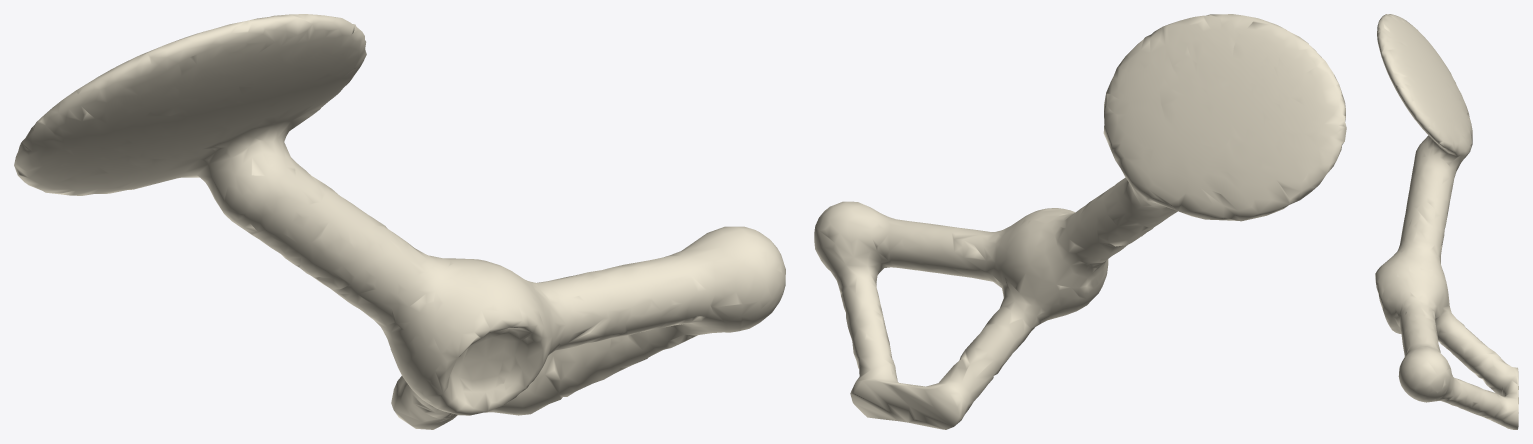
Rendered from hip_l.glb.
3 views of the same model, side by side, from view 1: azimuth 30°, elevation 25°; view 2: azimuth 150°, elevation 25°; view 3: azimuth 270°, elevation 25° (orthographic). The views are drawn at different scales.
Parts seen in each view (by area): view 1: geometry_0; view 2: geometry_0; view 3: geometry_0.
Part boxes in pixels (x1=…): geometry_0: x1=14, y1=14, x2=785, y2=429; geometry_0: x1=814, y1=14, x2=1346, y2=429; geometry_0: x1=1375, y1=14, x2=1518, y2=429.
Bounding box in the file's own units: 0.8076 × 0.5927 × 0.2601.
